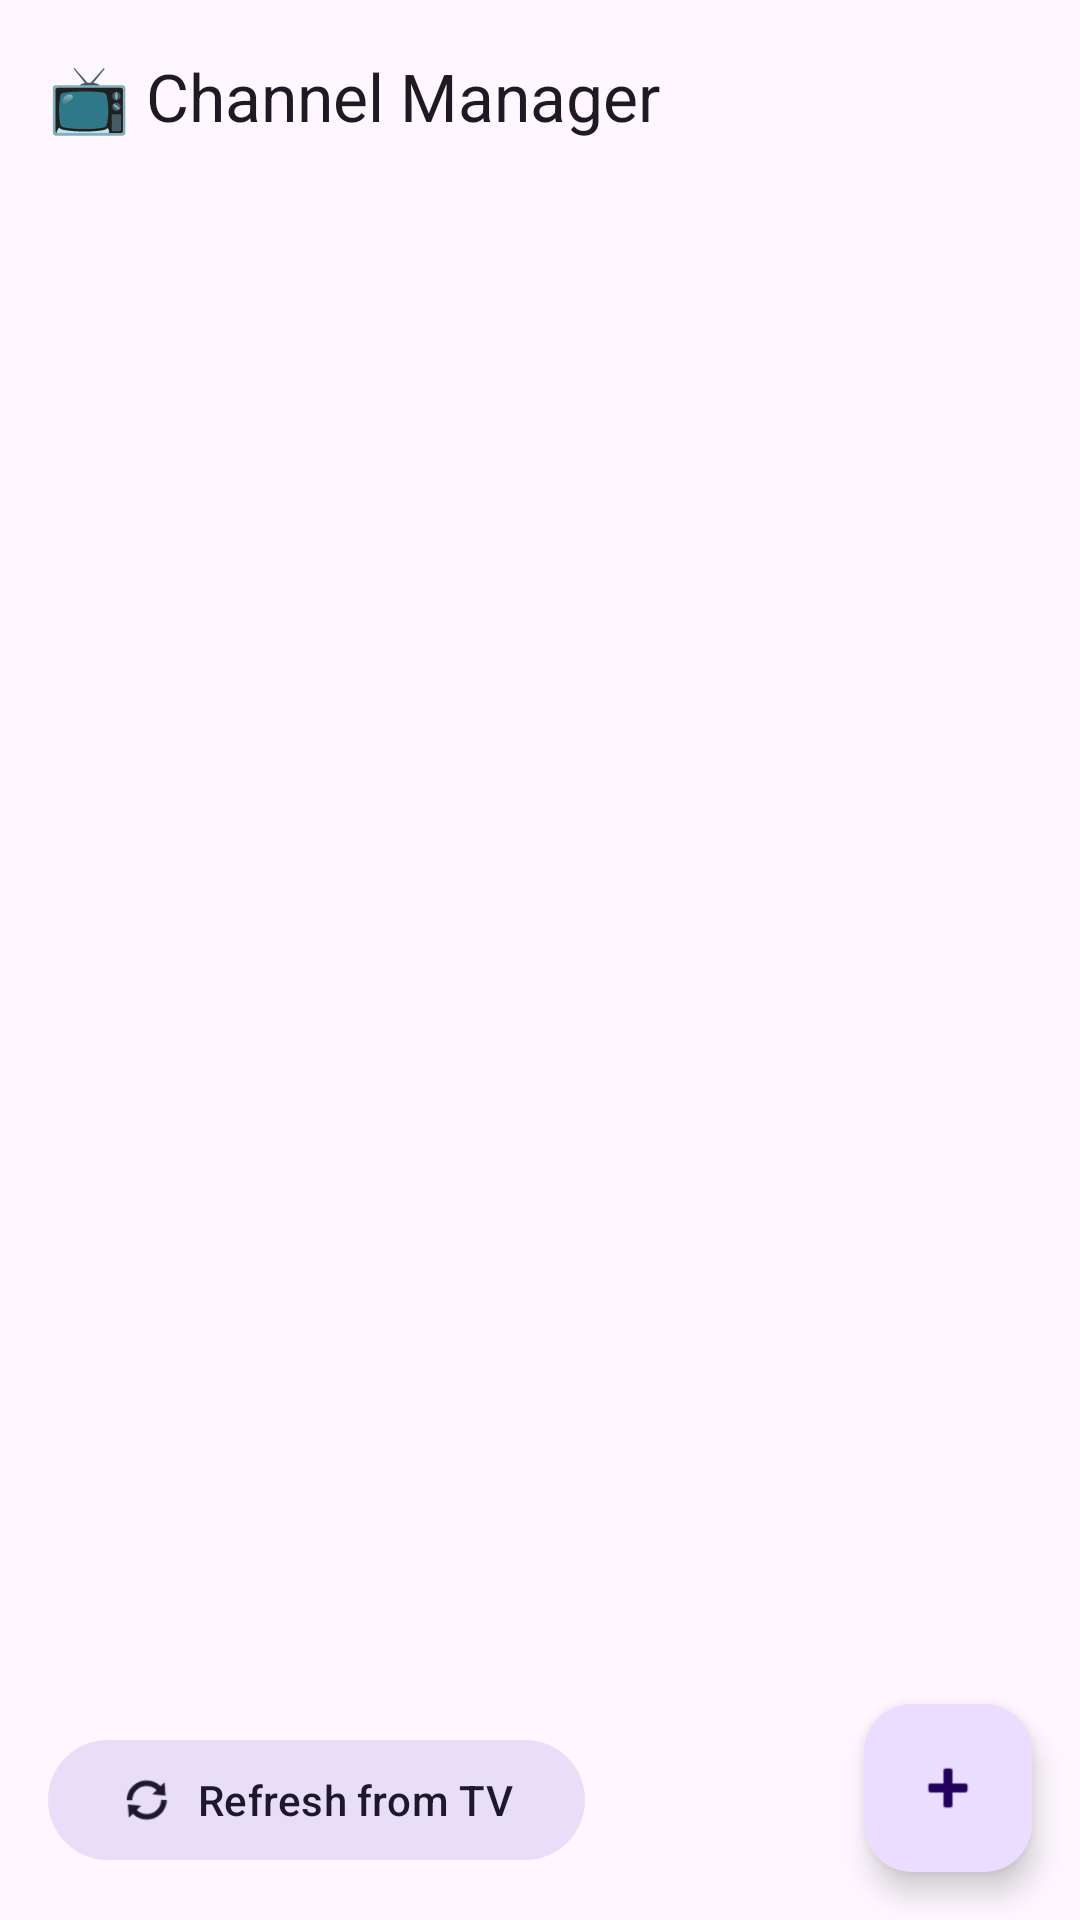

Point at icon controls on the screen. Image size 1080w x 1920h, points as point (x, y).
Add Channel: point (948, 1788)
